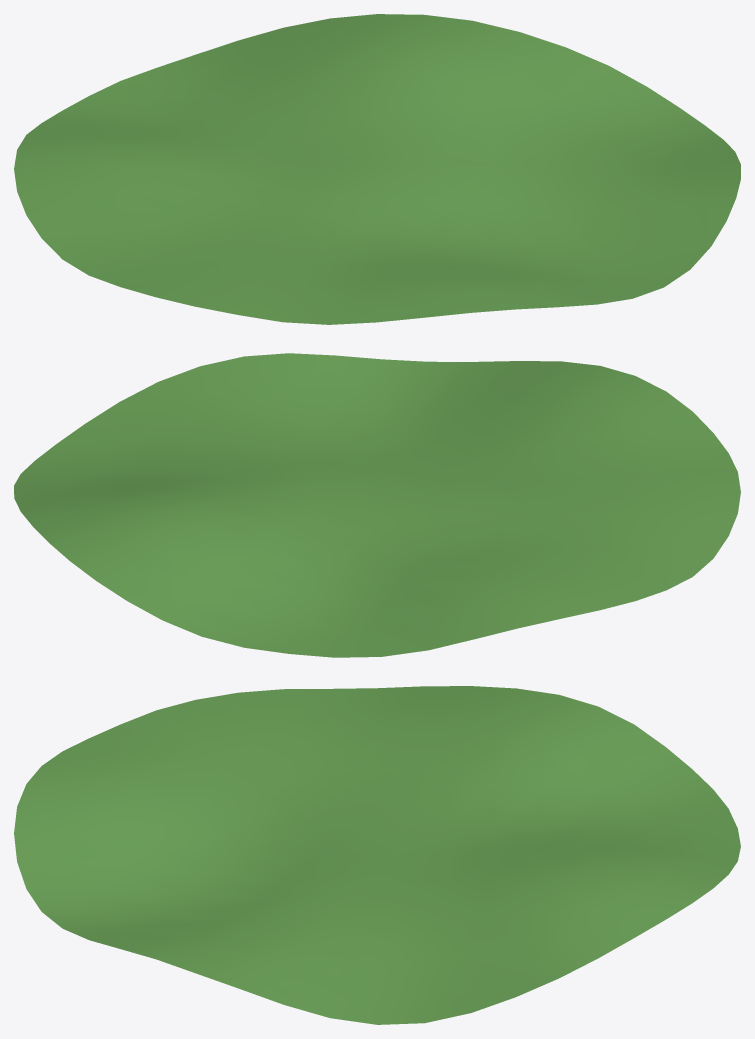
File: groundv4.fbx
The picture shows the model from 3 angles, top to bottom: view 1: azimuth 30°, elevation 25°; view 2: azimuth 150°, elevation 25°; view 3: azimuth 270°, elevation 25°; orthographic projection.
Visible parts, largest first — view 1: pDisc1; view 2: pDisc1; view 3: pDisc1.
Part boxes in pixels (x1,y1,x2,y2): pDisc1: [14, 14, 740, 324]; pDisc1: [14, 353, 740, 657]; pDisc1: [14, 686, 740, 1024].
Bounding box in the file's own units: 39.86 × 2.78 × 38.96.
